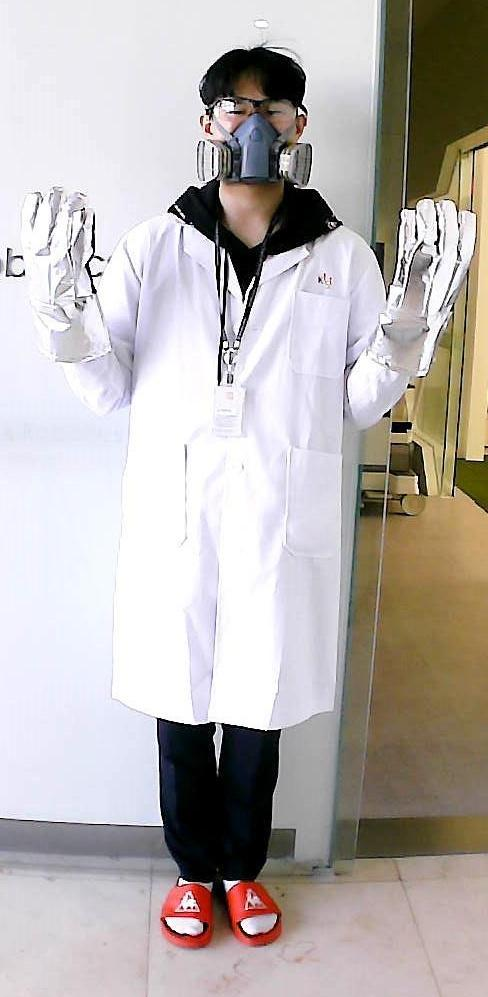lab_coat: (107, 232, 372, 706)
